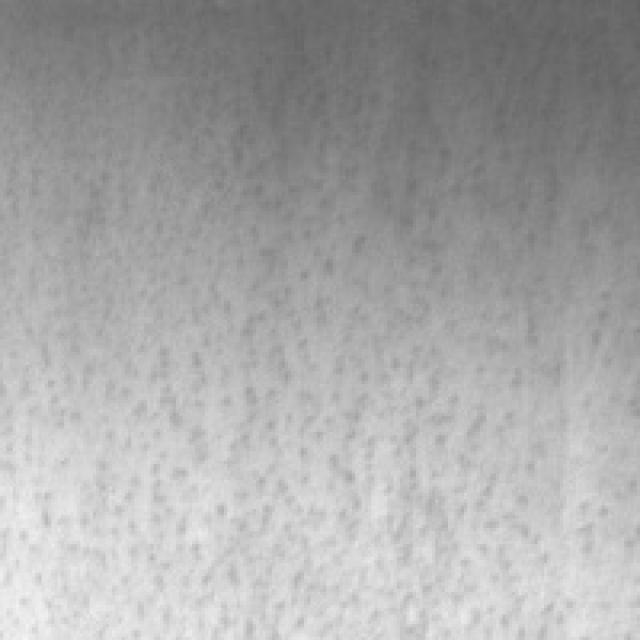pitted_surface: (16, 54, 544, 624), (166, 22, 564, 282)
